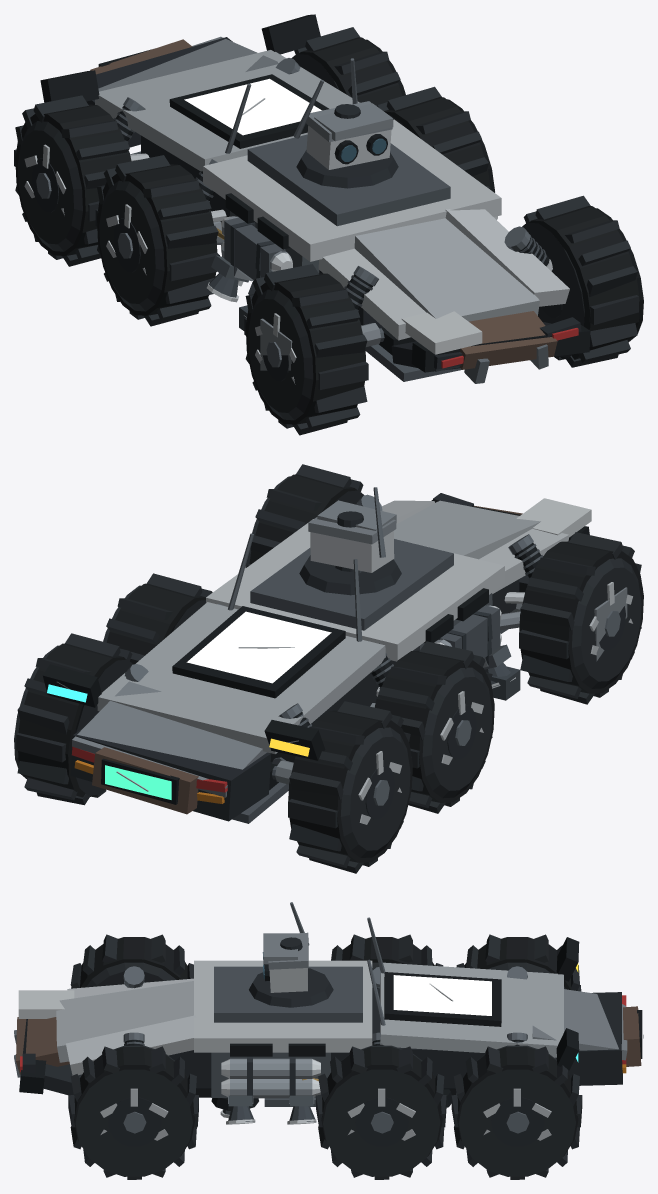
File: r47xs_recon_rover_d1_lod0.meshopt.glb
The picture shows the model from 3 angles, top to bottom: view 1: azimuth 30°, elevation 25°; view 2: azimuth 150°, elevation 25°; view 3: azimuth 270°, elevation 25°; orthographic projection. The views are drawn at different scales.
Parts seen in each view (by area): view 1: CHASSIS_ARMOR_BODY, ZONE_FRONT_BUMPER, WHEEL_ML, WHEEL_FL, WHEEL_RL, WHEEL_FR, WHEEL_MR, WHEEL_RR, ZONE_REAR_PANEL, ZONE_FLANK_NEG_X, DISPLAY_FDAI_TELEMETRY_PANEL, SENSOR_MAST_HEAD (+8 smaller); view 2: CHASSIS_ARMOR_BODY, WHEEL_RL, WHEEL_FL, ZONE_REAR_PANEL, WHEEL_ML, WHEEL_RR, ZONE_FRONT_BUMPER, DISPLAY_FDAI_TELEMETRY_PANEL, WHEEL_FR, WHEEL_MR, SENSOR_MAST_HEAD, ZONE_FLANK_NEG_X (+10 smaller); view 3: CHASSIS_ARMOR_BODY, WHEEL_MR, WHEEL_FR, WHEEL_RR, ZONE_FRONT_BUMPER, ZONE_FLANK_POS_X, ZONE_REAR_PANEL, WHEEL_FL, DISPLAY_FDAI_TELEMETRY_PANEL, WHEEL_RL, WHEEL_ML, SENSOR_MAST_HEAD (+6 smaller).
Part boxes in pixels (left/top/right/bottom): CHASSIS_ARMOR_BODY: left=95, top=50, right=501, bottom=355; ZONE_FRONT_BUMPER: left=318, top=209, right=590, bottom=383; WHEEL_ML: left=95, top=155, right=219, bottom=326; WHEEL_FL: left=244, top=264, right=368, bottom=435; WHEEL_RL: left=14, top=95, right=131, bottom=266; WHEEL_FR: left=522, top=195, right=643, bottom=367; WHEEL_MR: left=377, top=86, right=494, bottom=192; WHEEL_RR: left=291, top=27, right=405, bottom=105; ZONE_REAR_PANEL: left=86, top=36, right=277, bottom=154; ZONE_FLANK_NEG_X: left=40, top=70, right=319, bottom=280; DISPLAY_FDAI_TELEMETRY_PANEL: left=184, top=78, right=321, bottom=135; SENSOR_MAST_HEAD: left=293, top=79, right=392, bottom=169; CHASSIS_ARMOR_BODY: left=97, top=519, right=519, bottom=790; WHEEL_RL: left=288, top=701, right=412, bottom=873; WHEEL_FL: left=519, top=532, right=643, bottom=704; ZONE_REAR_PANEL: left=70, top=681, right=288, bottom=823; WHEEL_ML: left=374, top=641, right=494, bottom=813; WHEEL_RR: left=14, top=633, right=133, bottom=805; ZONE_FRONT_BUMPER: left=382, top=493, right=589, bottom=633; DISPLAY_FDAI_TELEMETRY_PANEL: left=186, top=611, right=331, bottom=683; WHEEL_FR: left=245, top=464, right=364, bottom=568; WHEEL_MR: left=103, top=573, right=212, bottom=664; SENSOR_MAST_HEAD: left=308, top=487, right=396, bottom=573; ZONE_FLANK_NEG_X: left=264, top=559, right=501, bottom=760; CHASSIS_ARMOR_BODY: left=168, top=960, right=563, bottom=1106; WHEEL_MR: left=316, top=1045, right=446, bottom=1179; WHEEL_FR: left=68, top=1045, right=198, bottom=1179; WHEEL_RR: left=451, top=1045, right=582, bottom=1179; ZONE_FRONT_BUMPER: left=14, top=978, right=196, bottom=1095; ZONE_FLANK_POS_X: left=211, top=959, right=579, bottom=1110; ZONE_REAR_PANEL: left=456, top=989, right=642, bottom=1094; WHEEL_FL: left=70, top=934, right=193, bottom=988; DISPLAY_FDAI_TELEMETRY_PANEL: left=393, top=975, right=491, bottom=1015; WHEEL_RL: left=456, top=934, right=581, bottom=991; WHEEL_ML: left=331, top=934, right=443, bottom=970; SENSOR_MAST_HEAD: left=262, top=902, right=309, bottom=992.
Size of the model in its own units: 2.44 by 1.68 by 4.74.
